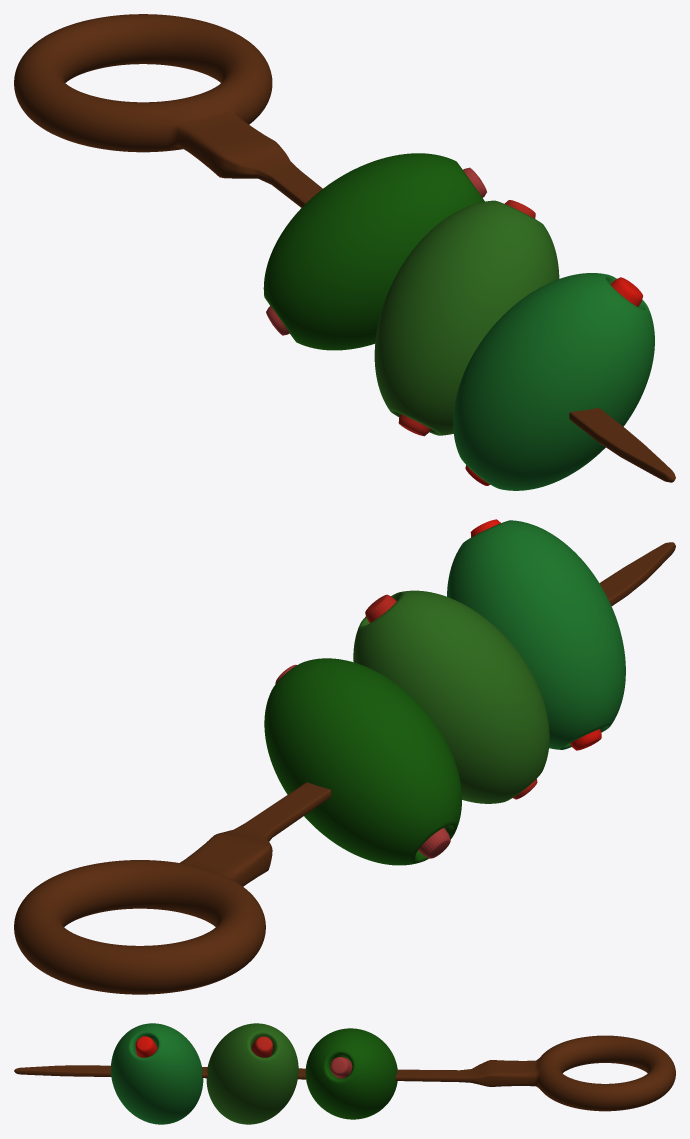
Rendered from Olive.fbx.
The picture shows the model from 3 angles, top to bottom: view 1: azimuth 30°, elevation 25°; view 2: azimuth 150°, elevation 25°; view 3: azimuth 270°, elevation 25°; orthographic projection. The views are drawn at different scales.
Parts seen in each view (by area): view 1: Pick, Olive3, Olive1, Olive2; view 2: Pick, Olive1, Olive2, Olive3; view 3: Pick, Olive3, Olive2, Olive1, Fill1, Fill3, Fill2.
Boxes of the visible parts, x1,y1,x2,y2 form: Pick: (14,14,675,482); Olive3: (453,273,654,490); Olive1: (263,153,484,350); Olive2: (374,200,559,435); Pick: (14,542,675,994); Olive1: (264,658,461,865); Olive2: (353,590,549,803); Olive3: (447,520,625,749); Pick: (14,1035,675,1111); Olive3: (111,1023,203,1124); Olive2: (206,1023,298,1124); Olive1: (305,1028,397,1119); Fill1: (330,1057,352,1078); Fill3: (135,1036,157,1057); Fill2: (251,1036,272,1057).
Bounding box in the file's own units: 55.11 × 46.83 × 258.
